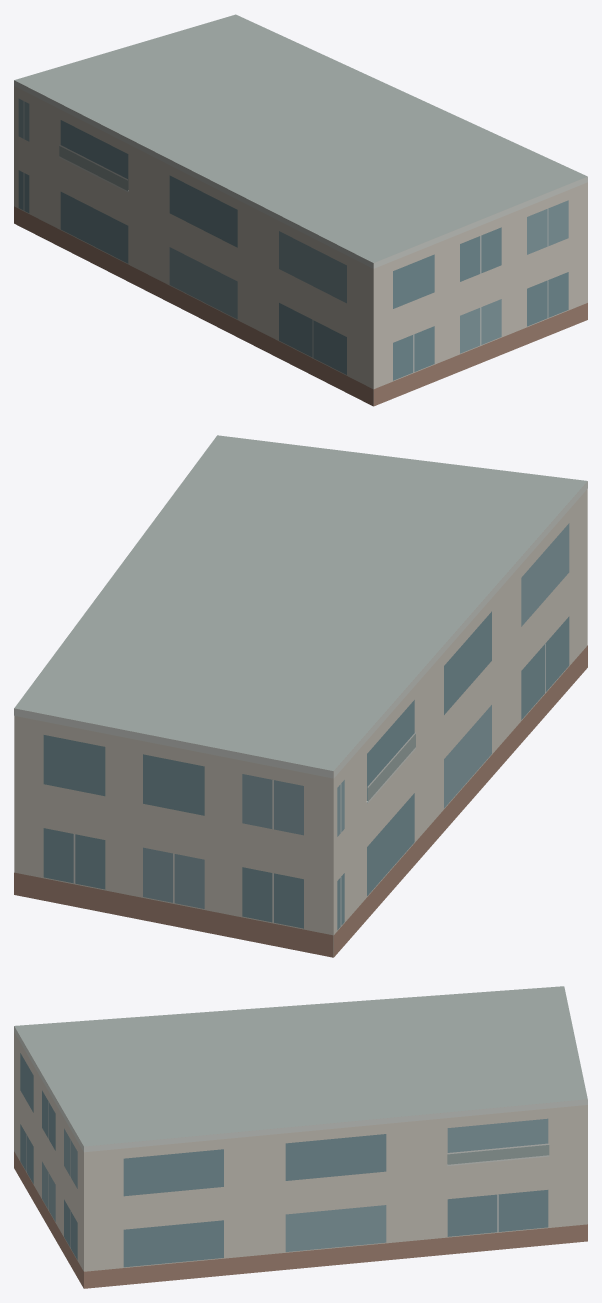
File: survey-upis-32467678.glb
The picture shows the model from 3 angles, top to bottom: view 1: azimuth 30°, elevation 25°; view 2: azimuth 150°, elevation 25°; view 3: azimuth 270°, elevation 25°; orthographic projection. The views are drawn at different scales.
Visible parts, largest first — view 1: survey-upis-32467678.tmp; view 2: survey-upis-32467678.tmp; view 3: survey-upis-32467678.tmp.
Part boxes in pixels (box(x1,y1,x2,y2)): survey-upis-32467678.tmp: box(14, 14, 587, 406); survey-upis-32467678.tmp: box(14, 435, 587, 957); survey-upis-32467678.tmp: box(14, 986, 587, 1288).
Bounding box in the file's own units: 14.78 × 6.1 × 22.33.
